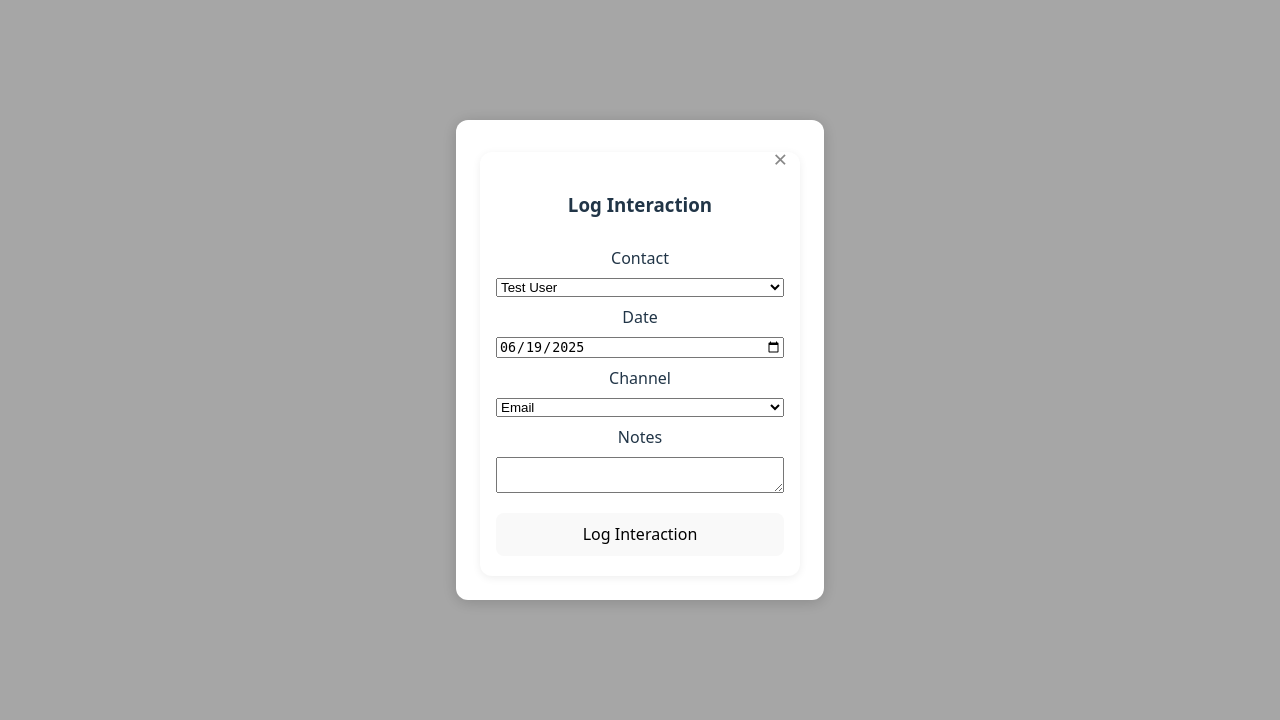
it: Interaction Logging Features › log interaction modal validates required fields
Clear the date field labelled "Date" at (640, 347), box [496,336,784,358]
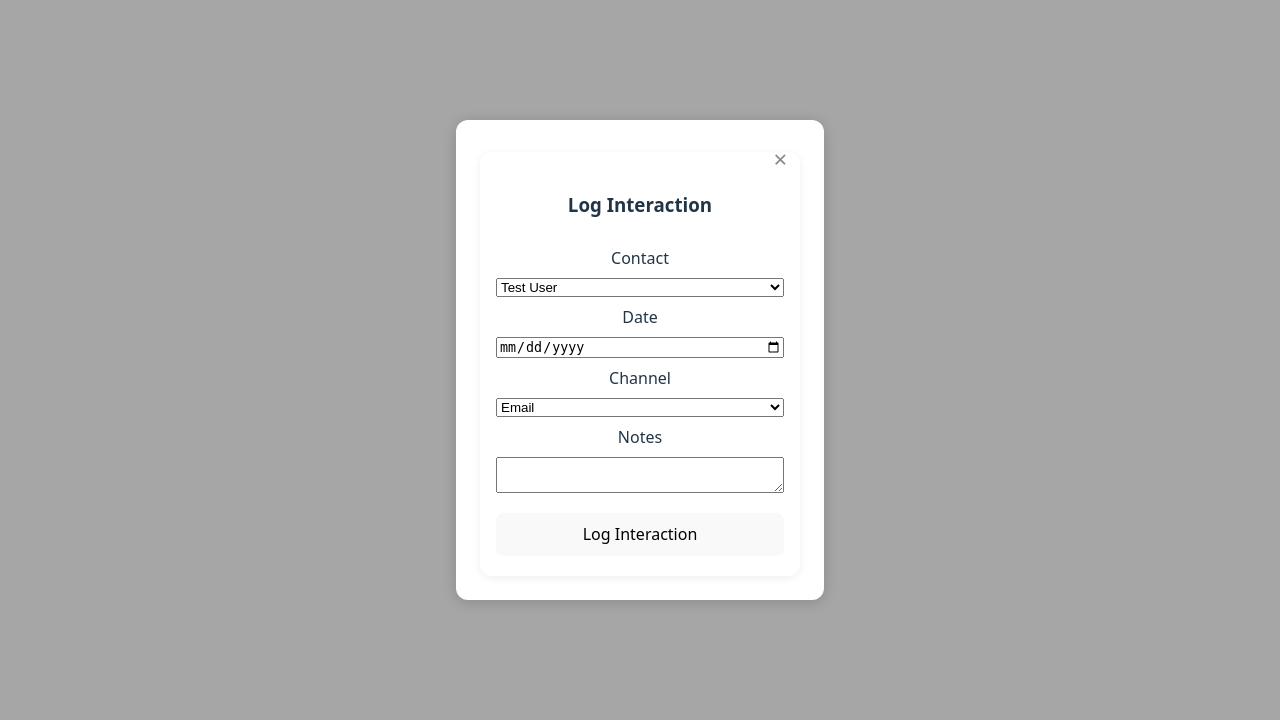
Click the button "Log Interaction" at (640, 534), box [496,513,784,556]
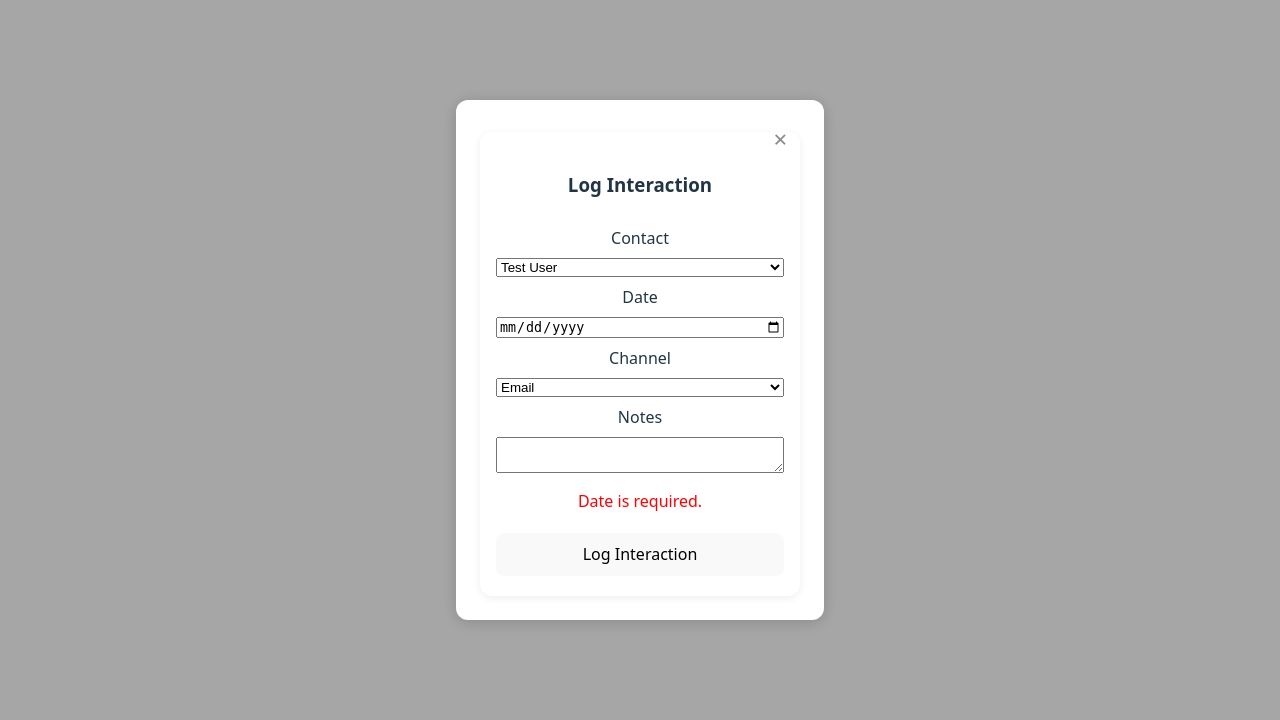
Expected: the text "Date is required." is shown, [578,490,702,512]
